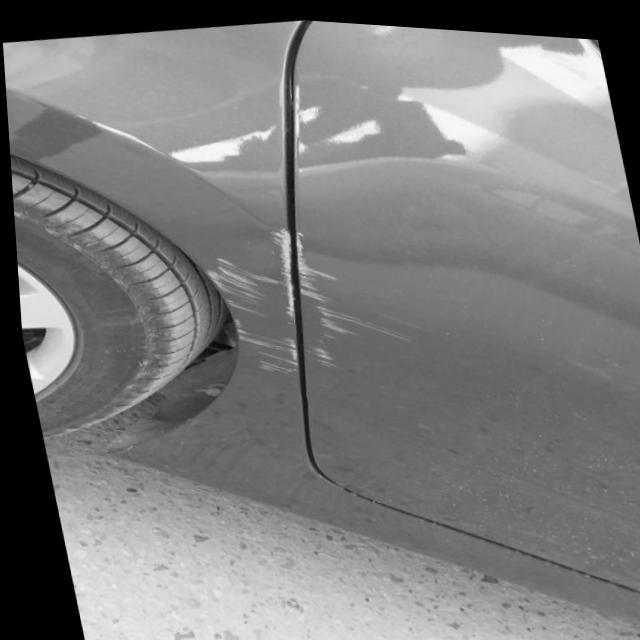Paint-fading: (203, 225, 408, 378)
